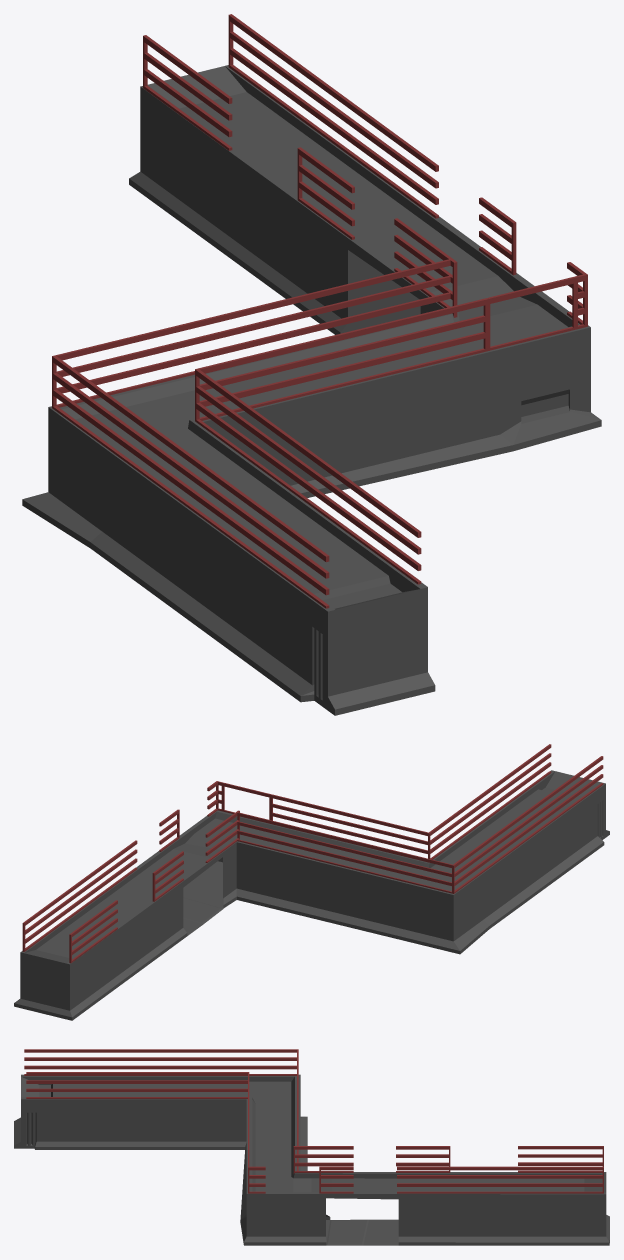
The model's file is LVL1_conveyor_hole.fbx.
The picture shows the model from 3 angles, top to bottom: view 1: azimuth 30°, elevation 25°; view 2: azimuth 150°, elevation 25°; view 3: azimuth 270°, elevation 25°; orthographic projection. The views are drawn at different scales.
Parts seen in each view (by area): view 1: polySurface89, polySurface81, polySurface82, polySurface86, polySurface88, polySurface87, polySurface83, polySurface84, polySurface85; view 2: polySurface89, polySurface81, polySurface82, polySurface86, polySurface88, polySurface84, polySurface87, polySurface83, polySurface85; view 3: polySurface89, polySurface81, polySurface86, polySurface82, polySurface88, polySurface84, polySurface87, polySurface85, polySurface83.
Boxes of the visible parts, left/top/right/bottom form: polySurface89: left=22, top=65, right=601, bottom=715; polySurface81: left=52, top=259, right=450, bottom=608; polySurface82: left=195, top=298, right=490, bottom=584; polySurface86: left=228, top=14, right=438, bottom=218; polySurface88: left=143, top=35, right=232, bottom=150; polySurface87: left=297, top=147, right=354, bottom=239; polySurface83: left=488, top=262, right=587, bottom=350; polySurface84: left=394, top=218, right=457, bottom=317; polySurface85: left=479, top=197, right=516, bottom=275; polySurface89: left=14, top=770, right=609, bottom=1020; polySurface81: left=237, top=756, right=603, bottom=893; polySurface82: left=269, top=744, right=551, bottom=859; polySurface86: left=22, top=840, right=137, bottom=951; polySurface88: left=69, top=900, right=117, bottom=963; polySurface84: left=205, top=810, right=239, bottom=862; polySurface87: left=152, top=851, right=183, bottom=901; polySurface83: left=207, top=781, right=269, bottom=816; polySurface85: left=159, top=809, right=179, bottom=851; polySurface89: left=14, top=1074, right=609, bottom=1245; polySurface81: left=24, top=1049, right=298, bottom=1170; polySurface86: left=397, top=1166, right=603, bottom=1193; polySurface82: left=26, top=1072, right=249, bottom=1143; polySurface88: left=518, top=1146, right=603, bottom=1172; polySurface84: left=293, top=1146, right=353, bottom=1173; polySurface87: left=396, top=1146, right=450, bottom=1172; polySurface85: left=319, top=1166, right=353, bottom=1193; polySurface83: left=248, top=1143, right=265, bottom=1193.
Bounding box in the file's own units: 47.81 × 13.4 × 95.63.
